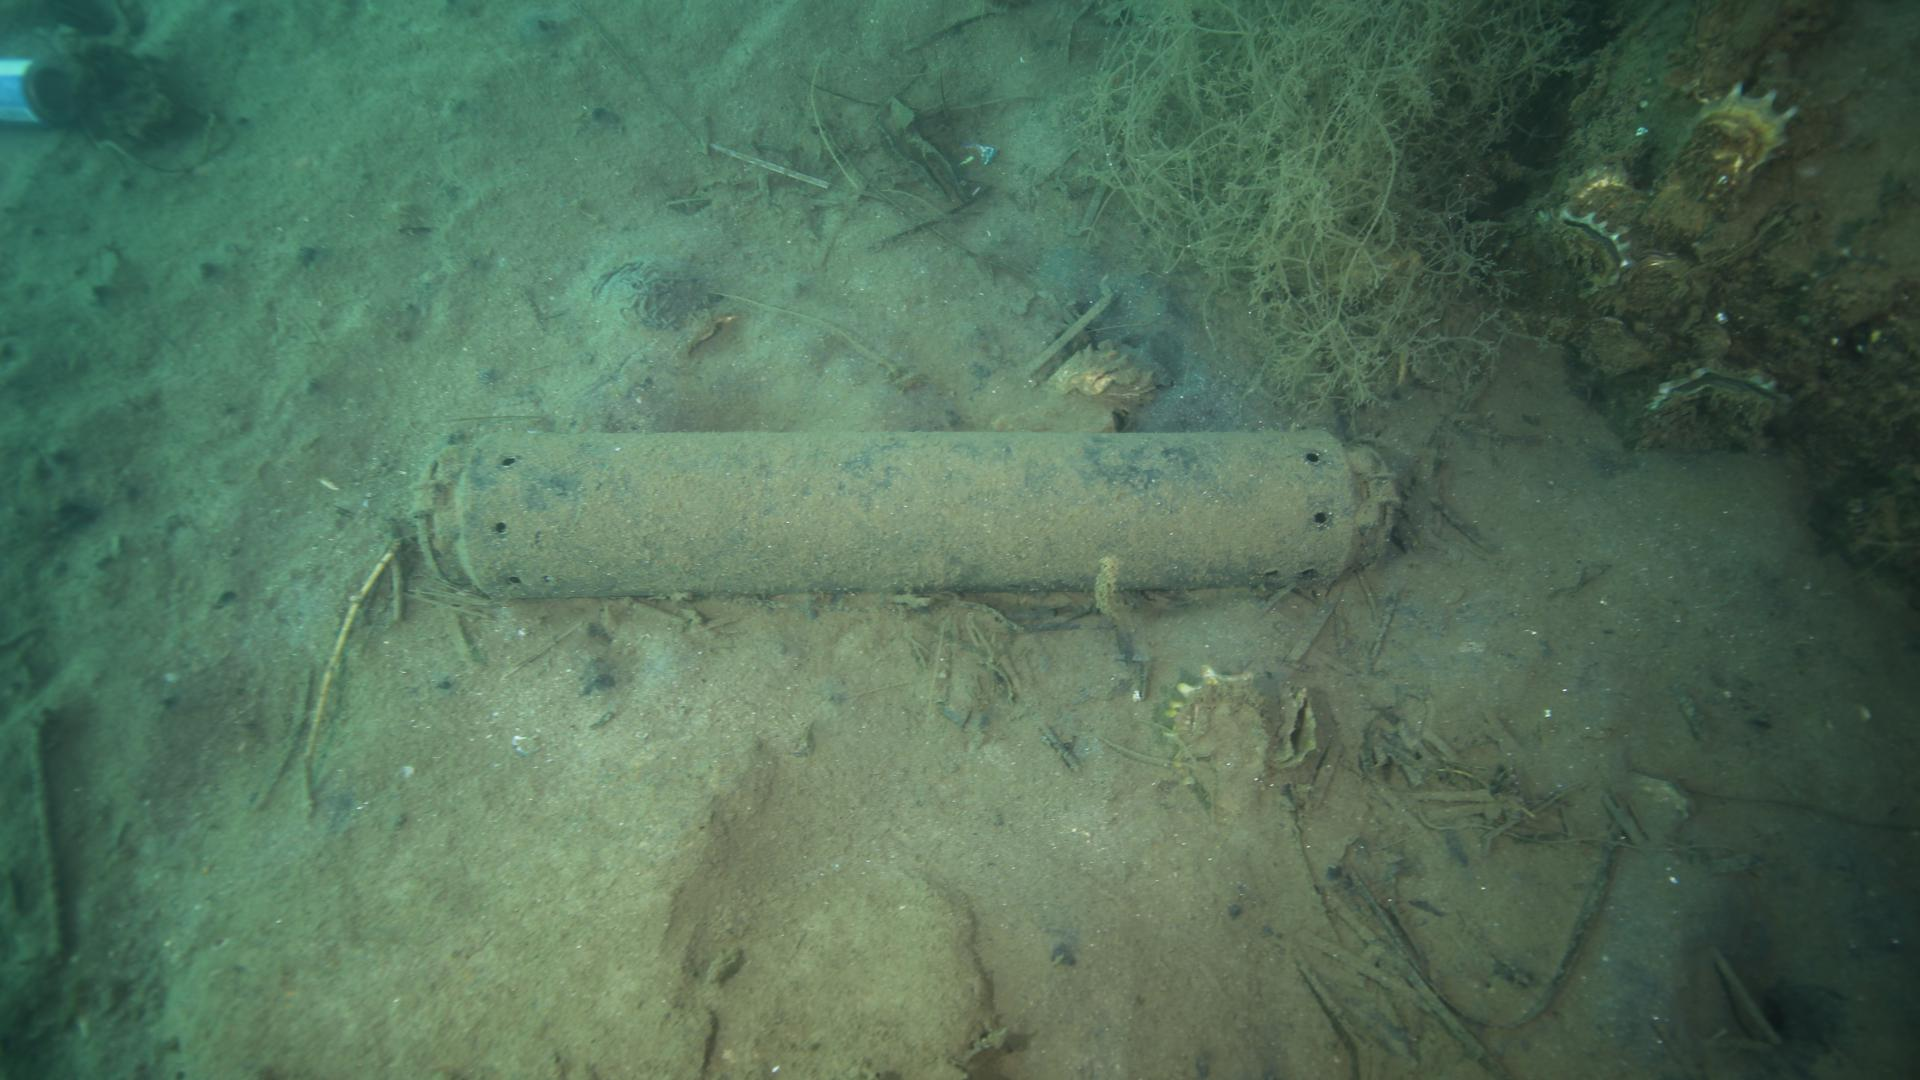eel fish trap: (405, 421, 1415, 601)
